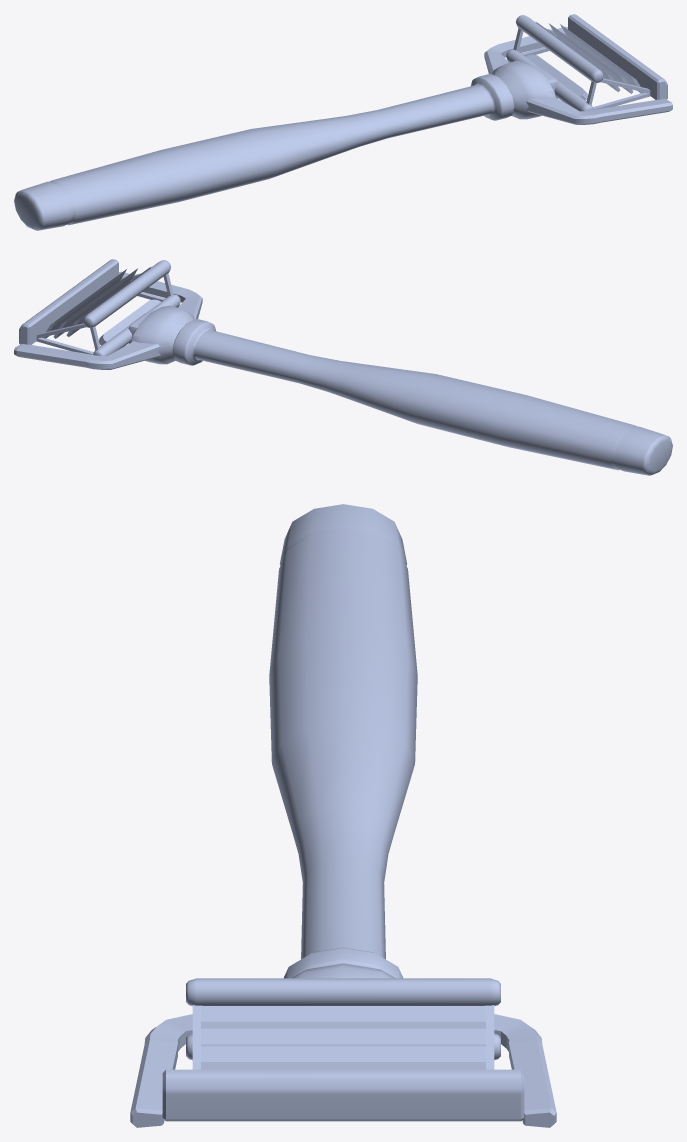
Rendered from razor.fbx.
3 renders of one model, top to bottom at view 1: azimuth 30°, elevation 25°; view 2: azimuth 150°, elevation 25°; view 3: azimuth 270°, elevation 25°, orthographic. The views are drawn at different scales.
Visible parts, largest first — view 1: pCube18; view 2: pCube18; view 3: pCube18.
Part boxes in pixels (x1,y1,x2,y2): pCube18: (14,14,672,230); pCube18: (14,259,672,475); pCube18: (130,504,556,1127).
Bounding box in the file's own units: 24.75 × 2.45 × 7.64.
